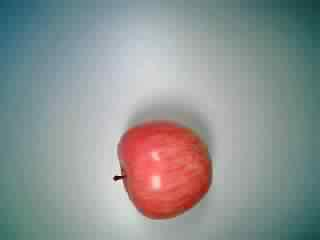apple: (110, 116, 214, 220)
